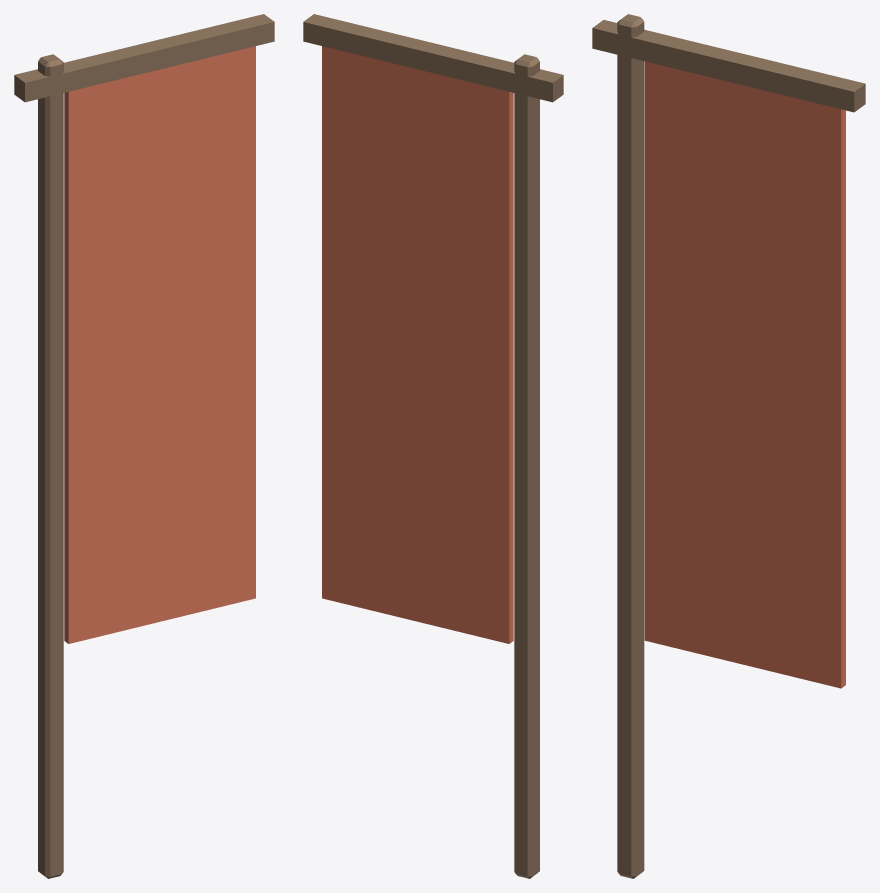
The model's file is feudal-japan-castle-town-shrine-banner-a9d16d23__26413.glb.
3 renders of one model, left to right at view 1: azimuth 30°, elevation 25°; view 2: azimuth 150°, elevation 25°; view 3: azimuth 330°, elevation 25°, orthographic. The views are drawn at different scales.
Visible parts, largest first — view 1: shrine-banner; view 2: shrine-banner; view 3: shrine-banner.
Part boxes in pixels (<box>): shrine-banner: <box>14,14,274,878</box>; shrine-banner: <box>303,14,563,878</box>; shrine-banner: <box>592,14,865,878</box>.
Size of the model in its own units: 0.8 by 2.5 by 0.0601.
